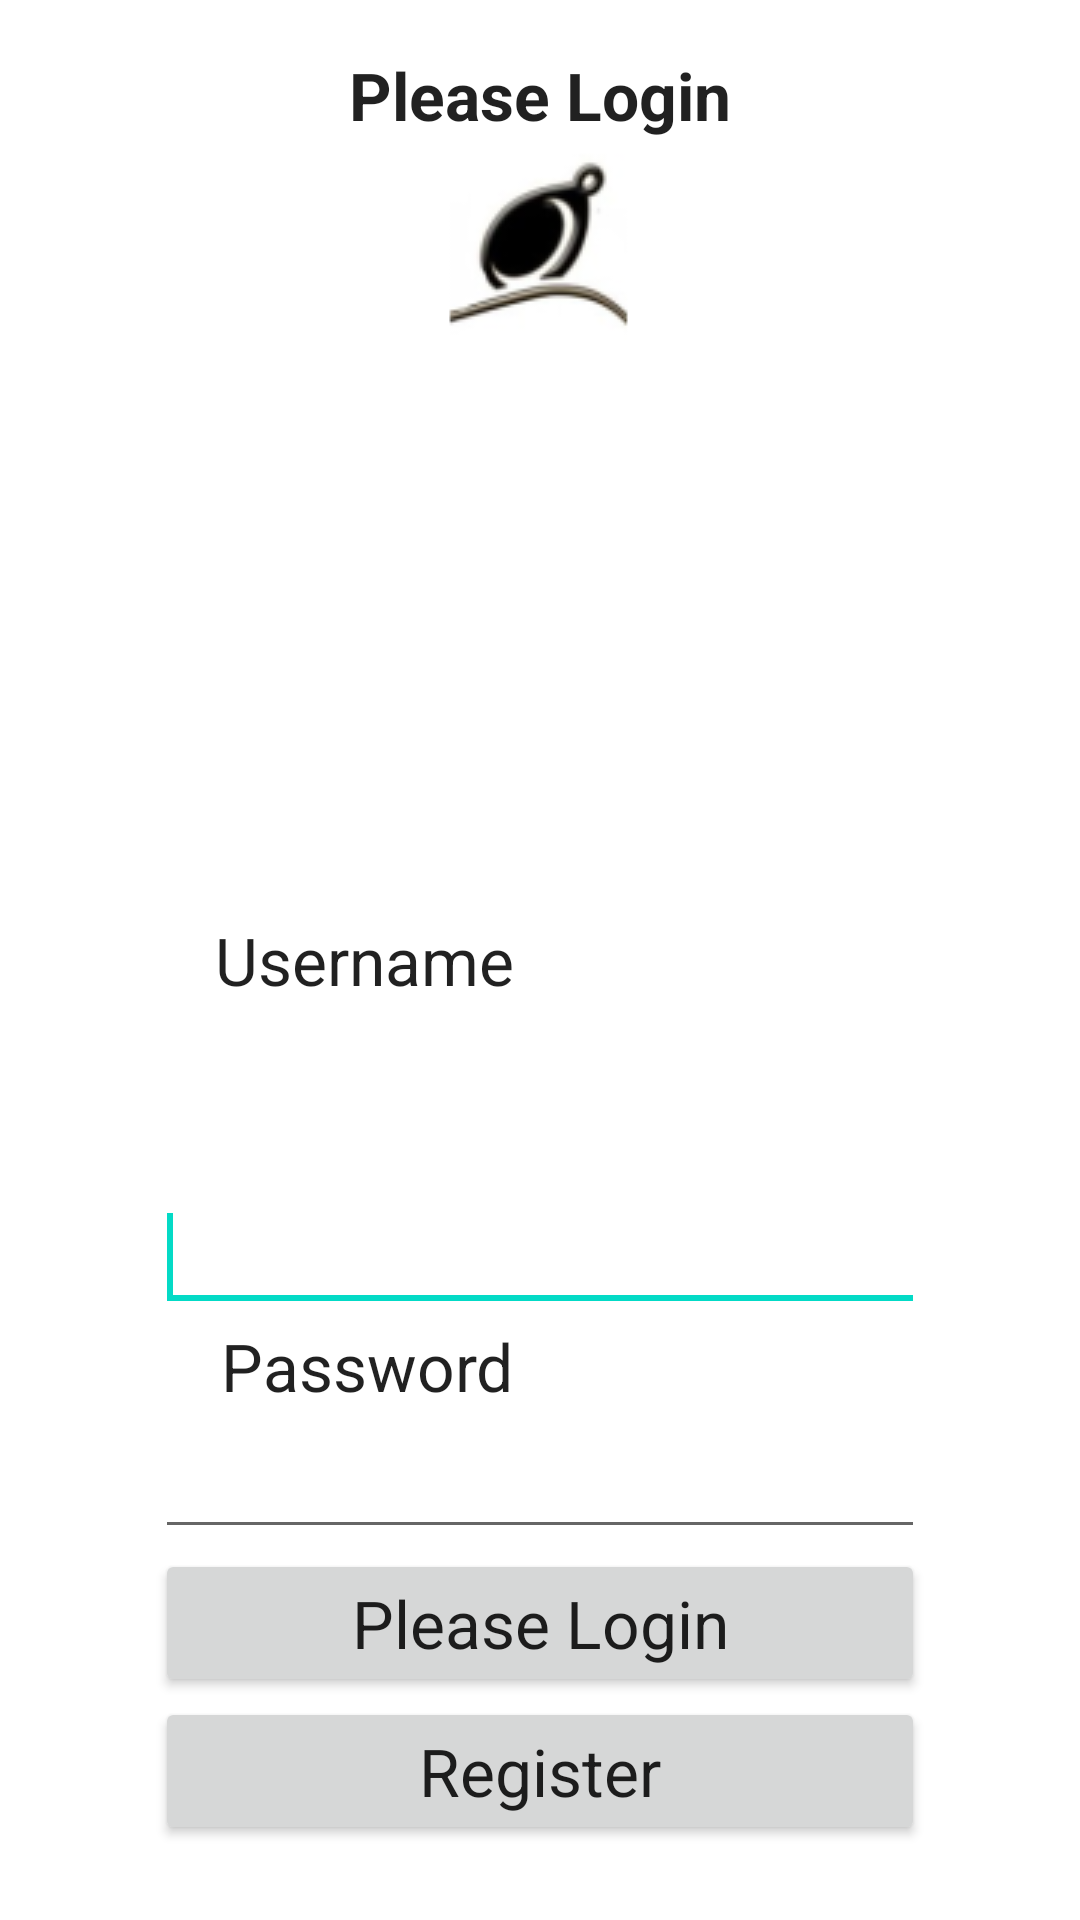

Icons on this 1080px x 1920px Android screen, each with the point to tap as [x,y]:
blackbuoy: [538,244]
